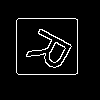R: (25, 25, 83, 79)
